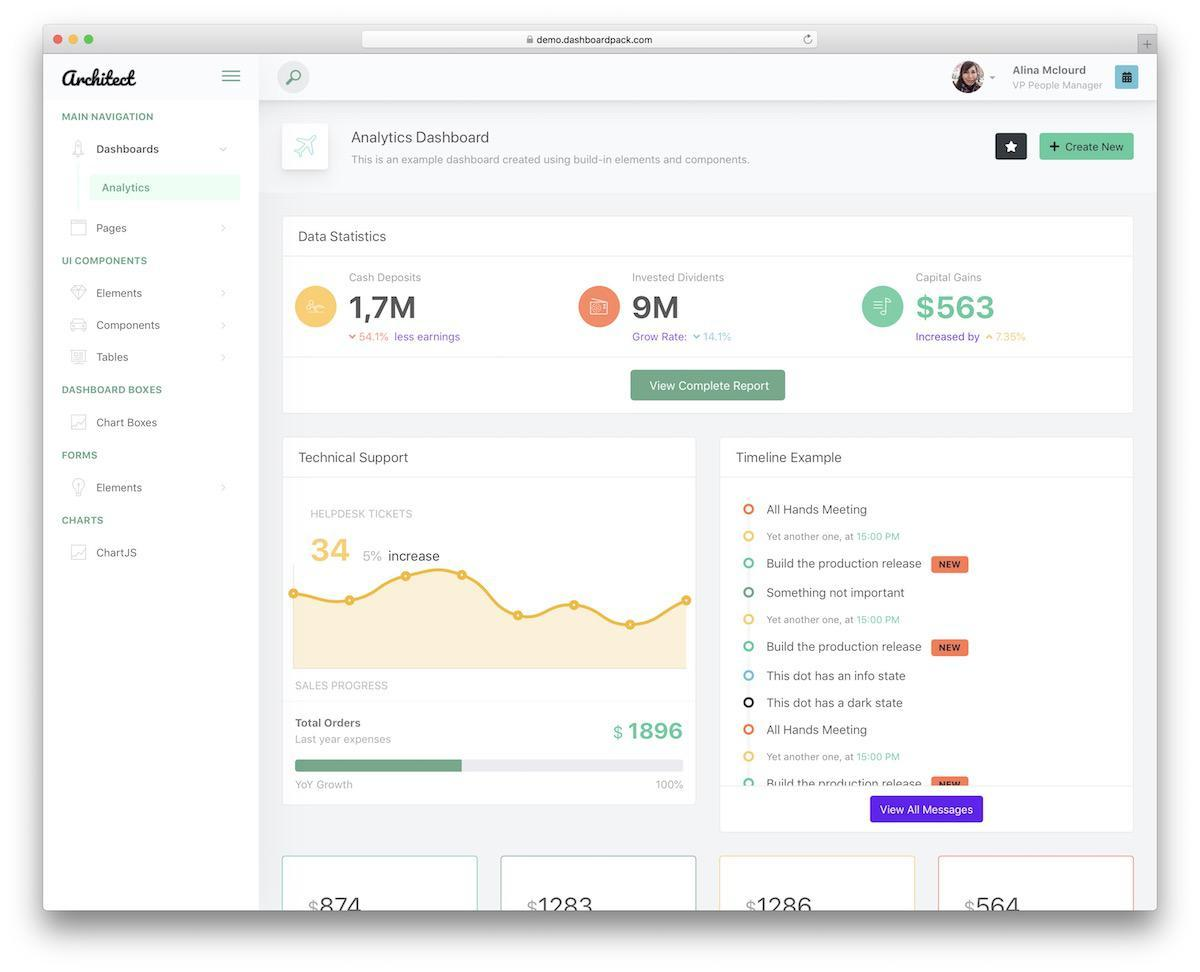button: (631, 369, 787, 403), (868, 797, 985, 824), (1038, 132, 1137, 162)
icon: (282, 125, 332, 174), (863, 285, 905, 331), (296, 285, 338, 330), (580, 286, 622, 330), (951, 62, 985, 95), (279, 61, 311, 96), (996, 132, 1029, 161), (220, 66, 248, 93), (67, 280, 93, 307), (1115, 65, 1140, 91), (66, 137, 90, 164), (66, 346, 91, 370), (66, 543, 91, 567), (68, 414, 92, 438), (71, 474, 91, 501), (69, 317, 93, 338), (70, 218, 90, 243), (220, 480, 231, 497), (220, 352, 232, 365), (219, 288, 231, 300), (218, 320, 230, 332), (988, 73, 999, 83), (219, 225, 230, 235), (219, 145, 228, 156)
label: (1009, 63, 1107, 95), (94, 413, 160, 433), (96, 318, 162, 336), (98, 181, 158, 196), (94, 144, 161, 156), (96, 285, 145, 301), (94, 481, 145, 495), (93, 220, 134, 236), (96, 548, 139, 563), (97, 349, 132, 367)
